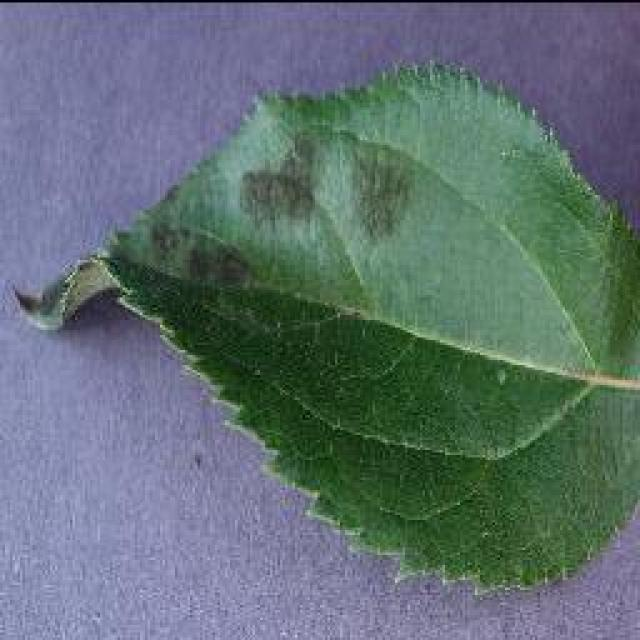apple scab disease: (12, 57, 638, 595)
